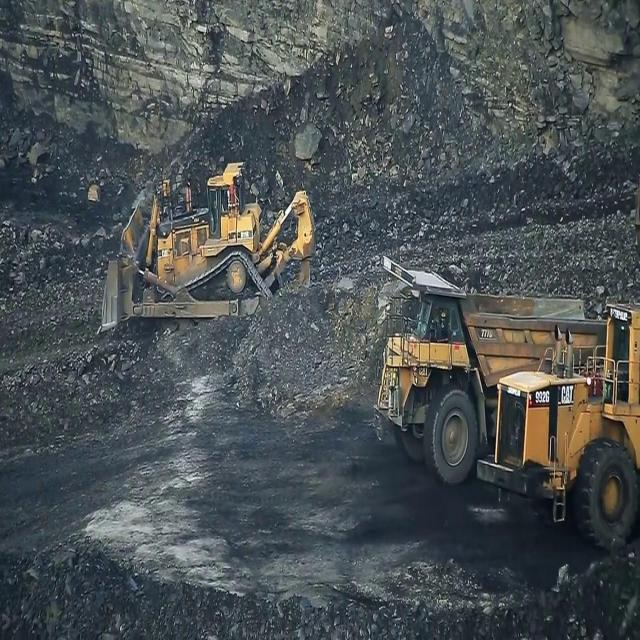Bulldozer: (95, 154, 319, 337)
Dump Truck: (375, 254, 605, 488)
Loader: (473, 295, 639, 553)
